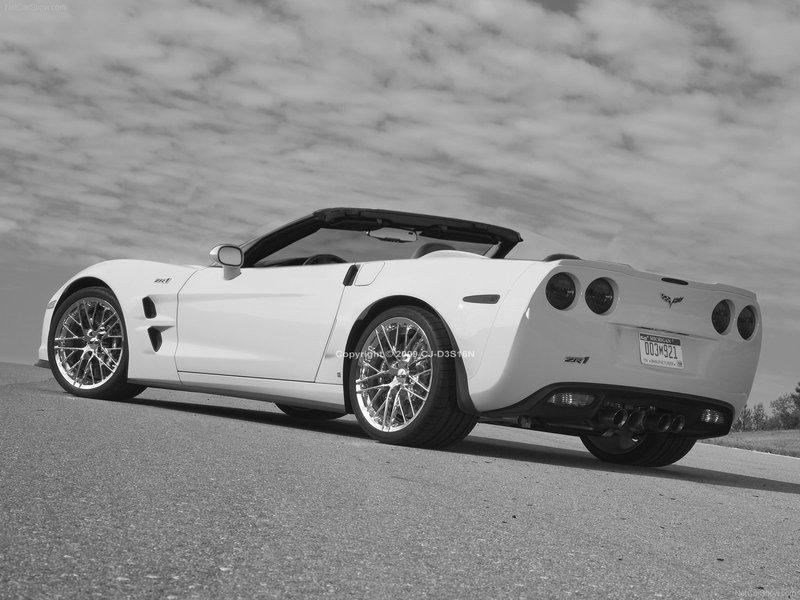car: (42, 207, 760, 469)
